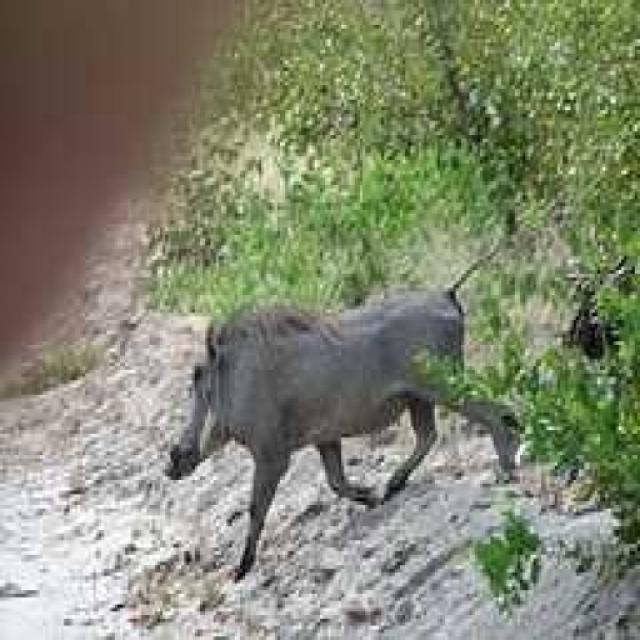pig: (66, 288, 614, 534)
